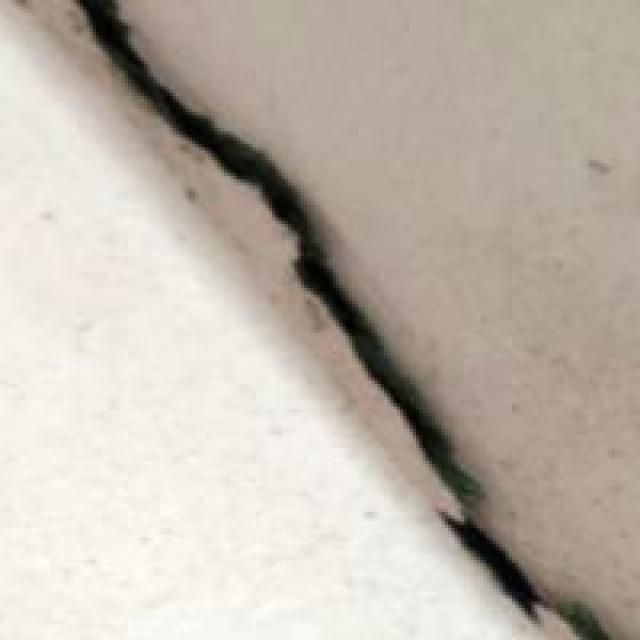Crack: (58, 0, 624, 637)
